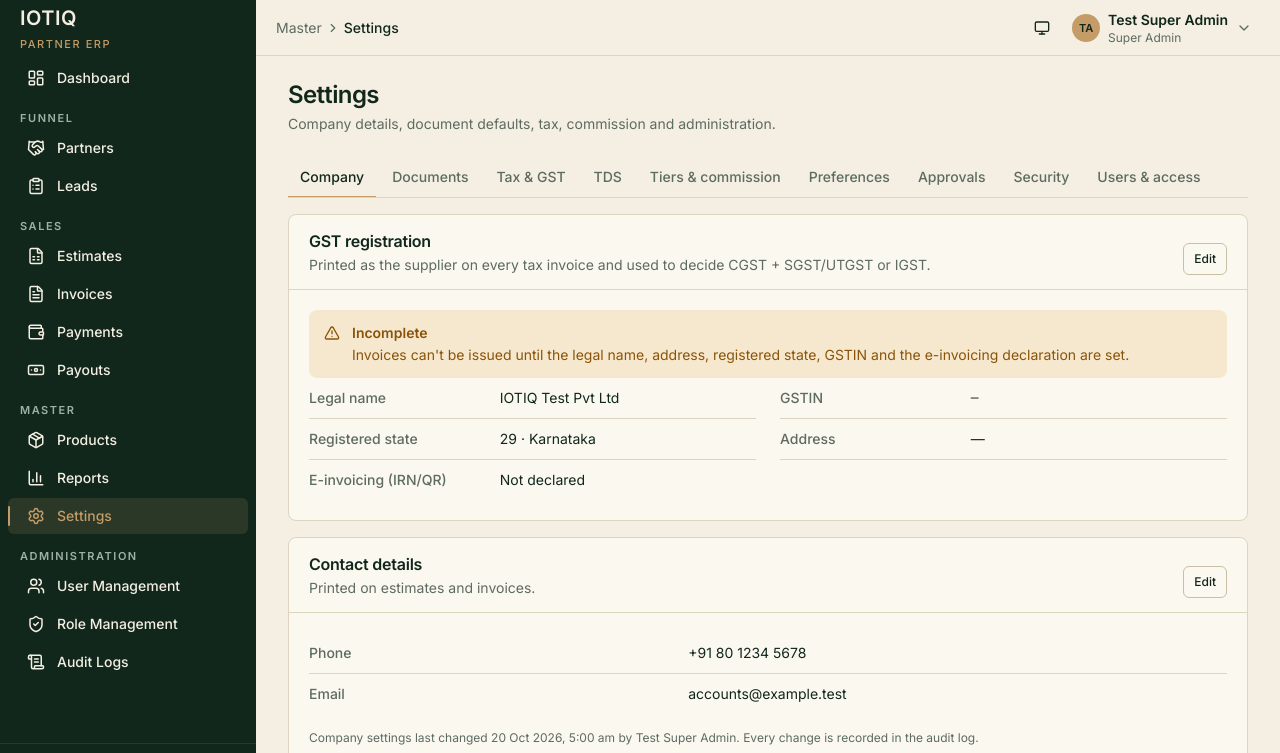
Test case: settings and administration › opens on the company section and switches sections through the URL
Expected: the heading "Contact details" is shown, 309,554 -> 422,574
Click the tab "Tiers & commission".
click(715, 178)  # box 638,158 -> 793,198
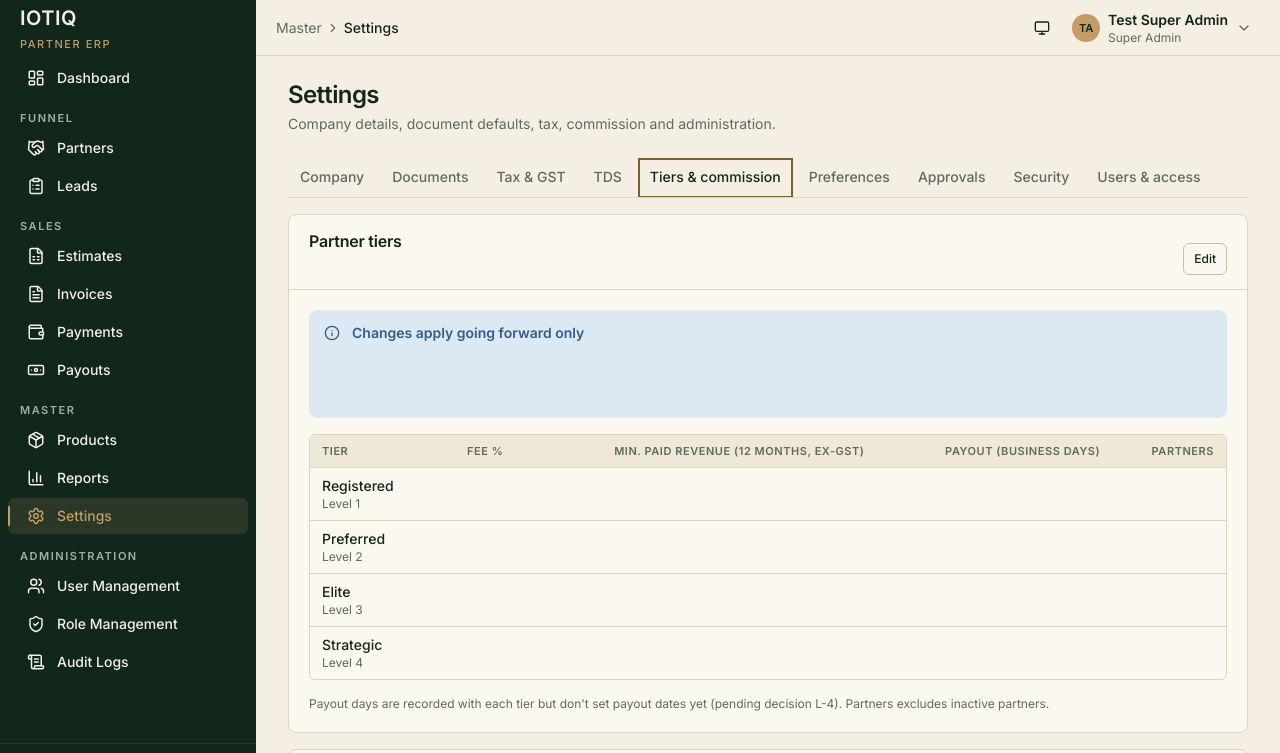
Result: the table named "Partner tiers" is shown at 310,435 -> 1226,679
